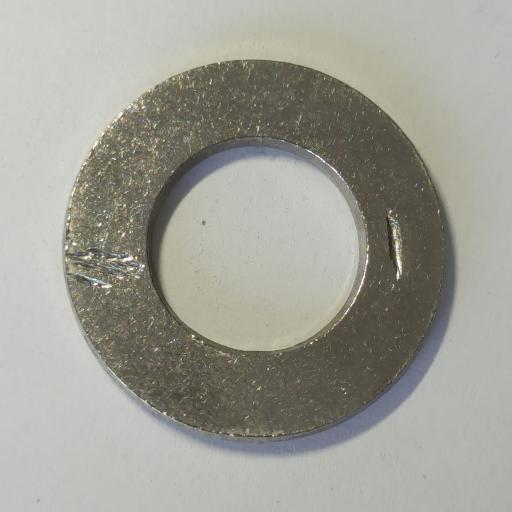scratch: (65, 248, 145, 289), (386, 210, 403, 281)
